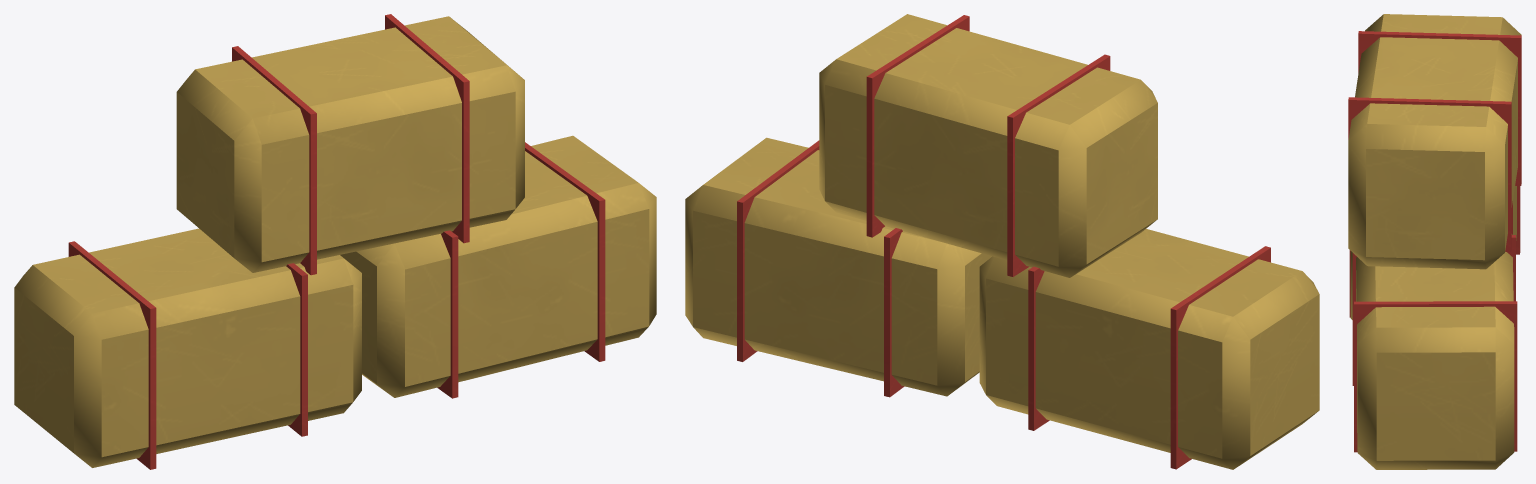
File: hay_bale_stack.glb
3 views of the same model, side by side, from view 1: azimuth 30°, elevation 25°; view 2: azimuth 150°, elevation 25°; view 3: azimuth 270°, elevation 25° (orthographic). The views are drawn at different scales.
Visible parts, largest first — view 1: hay_bale_stack; view 2: hay_bale_stack; view 3: hay_bale_stack.
Boxes of the visible parts, box(x1,y1,x2,y2) form: hay_bale_stack: box(14, 14, 656, 469); hay_bale_stack: box(685, 14, 1319, 469); hay_bale_stack: box(1348, 14, 1521, 469).
Bounding box in the file's own units: 1.96 × 1.02 × 0.552.
2 materials, 2 textured.
